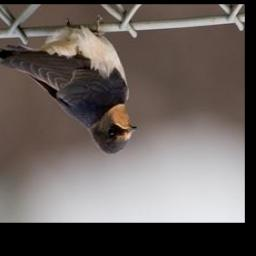Swallow: (0, 15, 137, 157)
